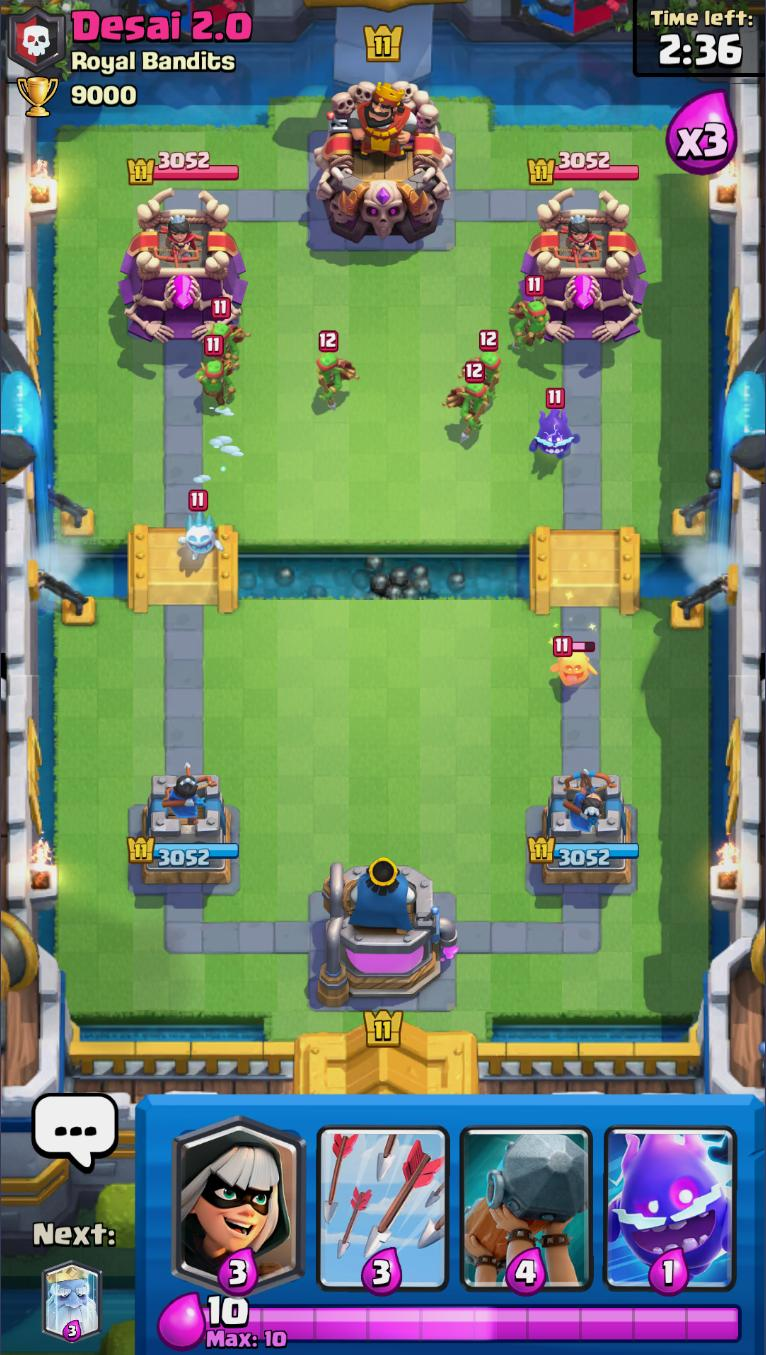ArrowDeck: (309, 1098, 456, 1293)
BanditDeck: (167, 1097, 312, 1294)
BattleRamDeck: (453, 1096, 599, 1296)
ElectroSpirit: (526, 388, 583, 463)
ElectroSpiritDeck: (597, 1097, 744, 1298)
Elixir: (204, 1290, 254, 1330)
EnemyTower: (115, 184, 249, 348), (518, 188, 650, 346)
HealSpirit: (545, 638, 602, 691)
IceSpirit: (172, 489, 222, 566)
KingTower: (309, 79, 459, 248)
MyKingTower: (310, 855, 463, 1018)
MyPrincessTower: (529, 761, 641, 894), (131, 761, 240, 893)
MyPrincessTowerHP: (128, 834, 241, 869), (529, 834, 639, 868)
PrincessTower: (550, 212, 608, 265), (153, 212, 205, 267)
RoyaleGhostNext: (41, 1256, 103, 1343)
SpearGoblin: (444, 363, 497, 440), (313, 331, 356, 411), (506, 275, 550, 351), (195, 336, 239, 411), (469, 330, 509, 391), (208, 297, 238, 355)
TowerPrincessHP: (525, 149, 640, 188), (124, 150, 240, 186)
